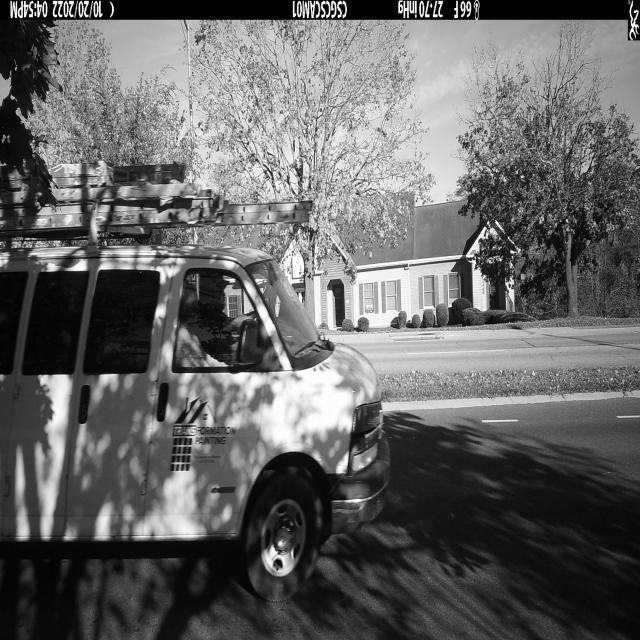Van: (0, 156, 392, 603)
